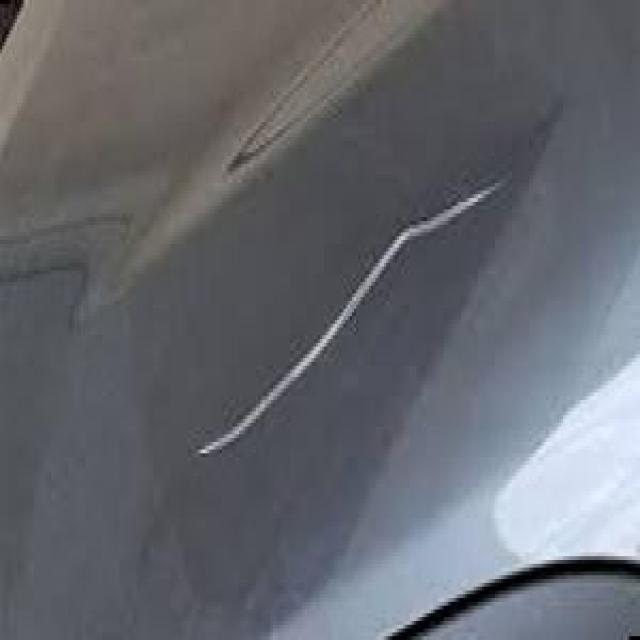scratch: (188, 158, 516, 471)
